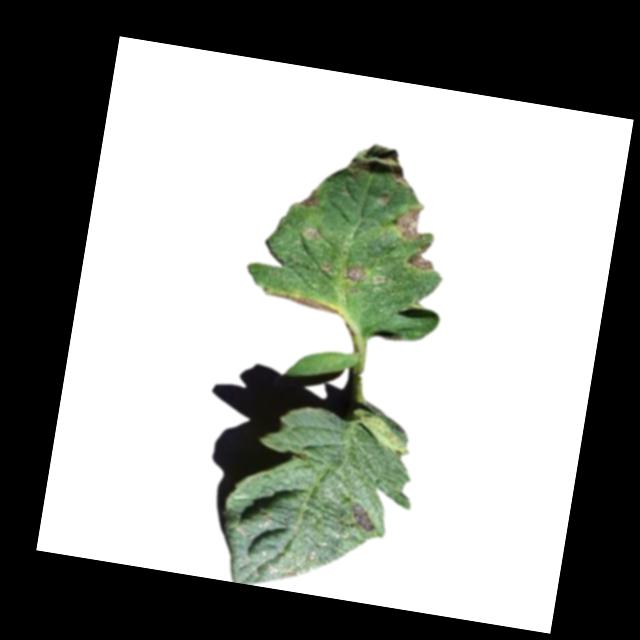Early_blight: (344, 139, 412, 186), (267, 291, 345, 318), (389, 201, 429, 243), (406, 240, 438, 275), (348, 502, 379, 534), (297, 186, 319, 210), (342, 264, 365, 285)
